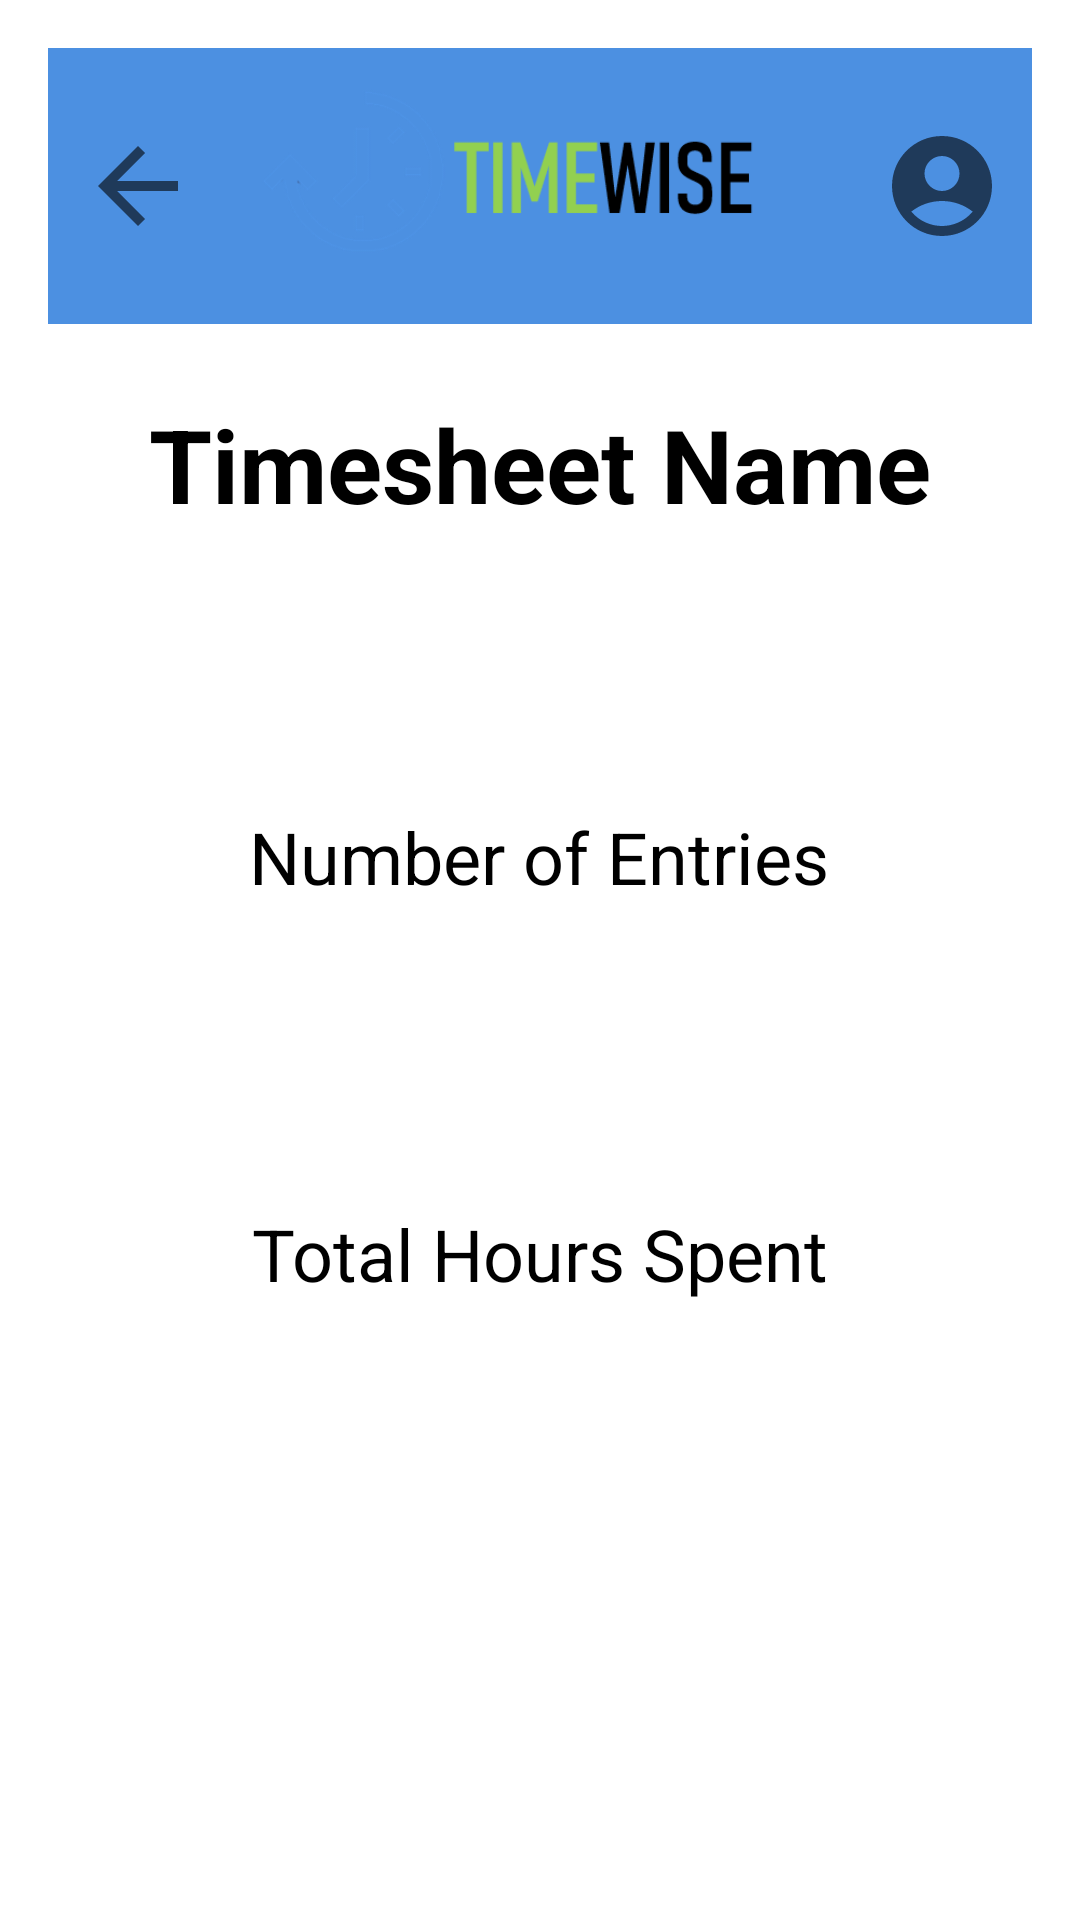

Where to tap for icons on this 1080x1920 app screen, as (x,y):
account circle: (942,186)
arrow back: (138,186)
